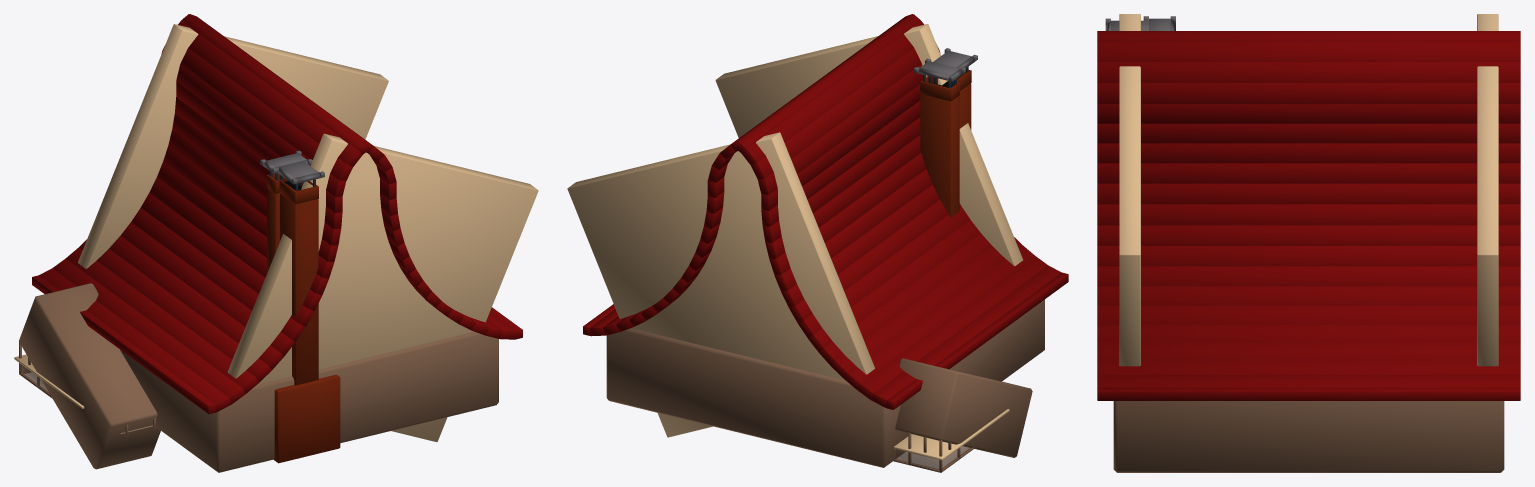
The model's file is Set_WoodCabin_CS.glb.
3 views of the same model, side by side, from view 1: azimuth 30°, elevation 25°; view 2: azimuth 150°, elevation 25°; view 3: azimuth 270°, elevation 25° (orthographic). The views are drawn at different scales.
Visible parts, largest first — view 1: Set_WoodCabin_CS; view 2: Set_WoodCabin_CS; view 3: Set_WoodCabin_CS.
Boxes of the visible parts, <box> form: Set_WoodCabin_CS: <box>14,14,538,472</box>; Set_WoodCabin_CS: <box>567,14,1068,472</box>; Set_WoodCabin_CS: <box>1097,14,1520,472</box>.
Bounding box in the file's own units: 13.28 × 11.73 × 10.92.
